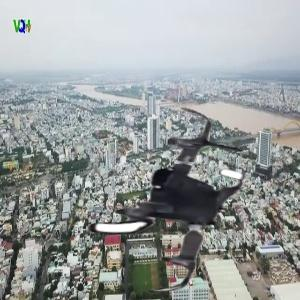drone: (62, 98, 262, 298)
